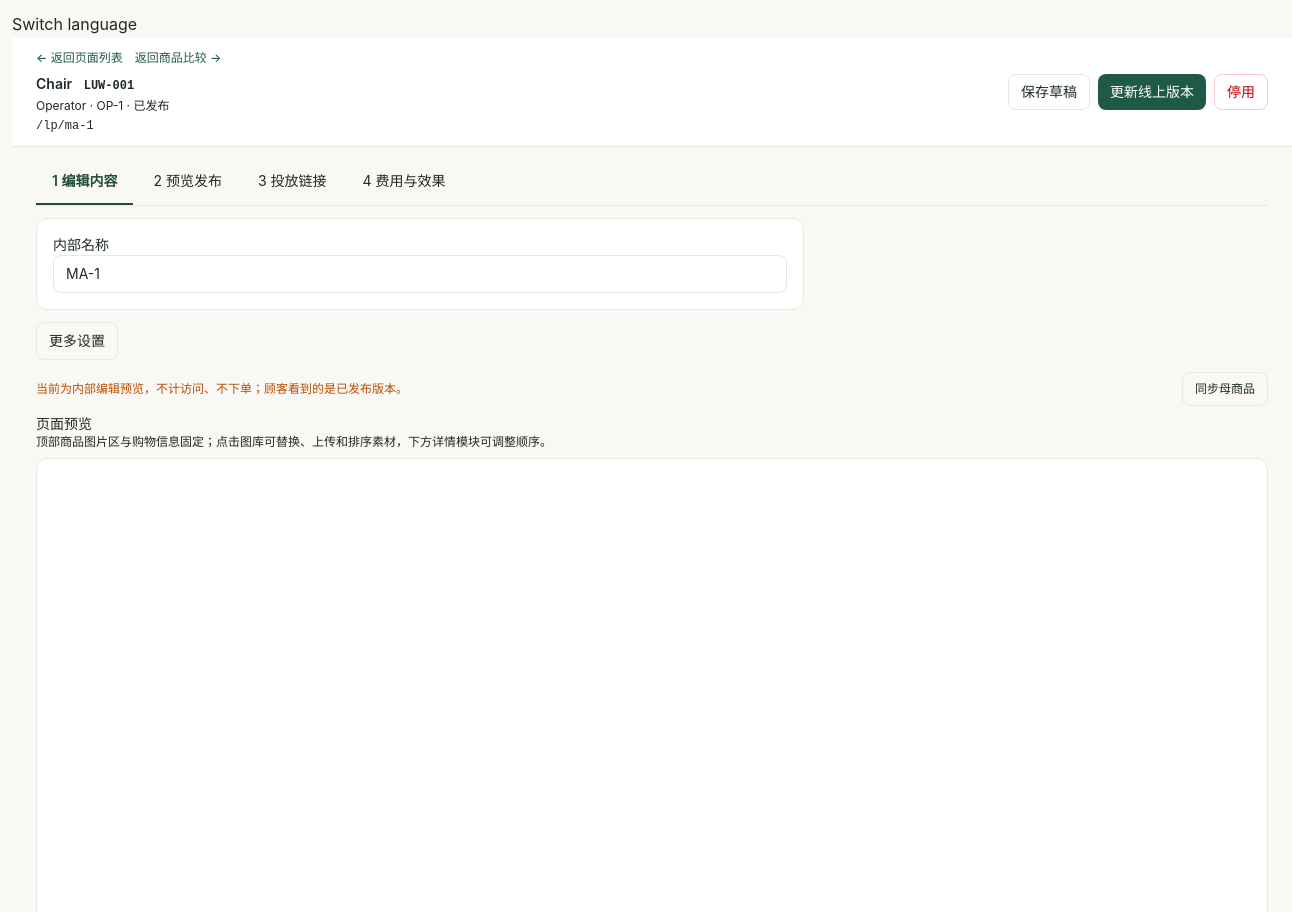
Test case: marketing page editing › blocks publication of local edits until the draft is saved
Expected: the text "LUW-001" is shown, [84,79,134,93]
Click the button "更多设置" at [77, 341], box [36,322,118,360]
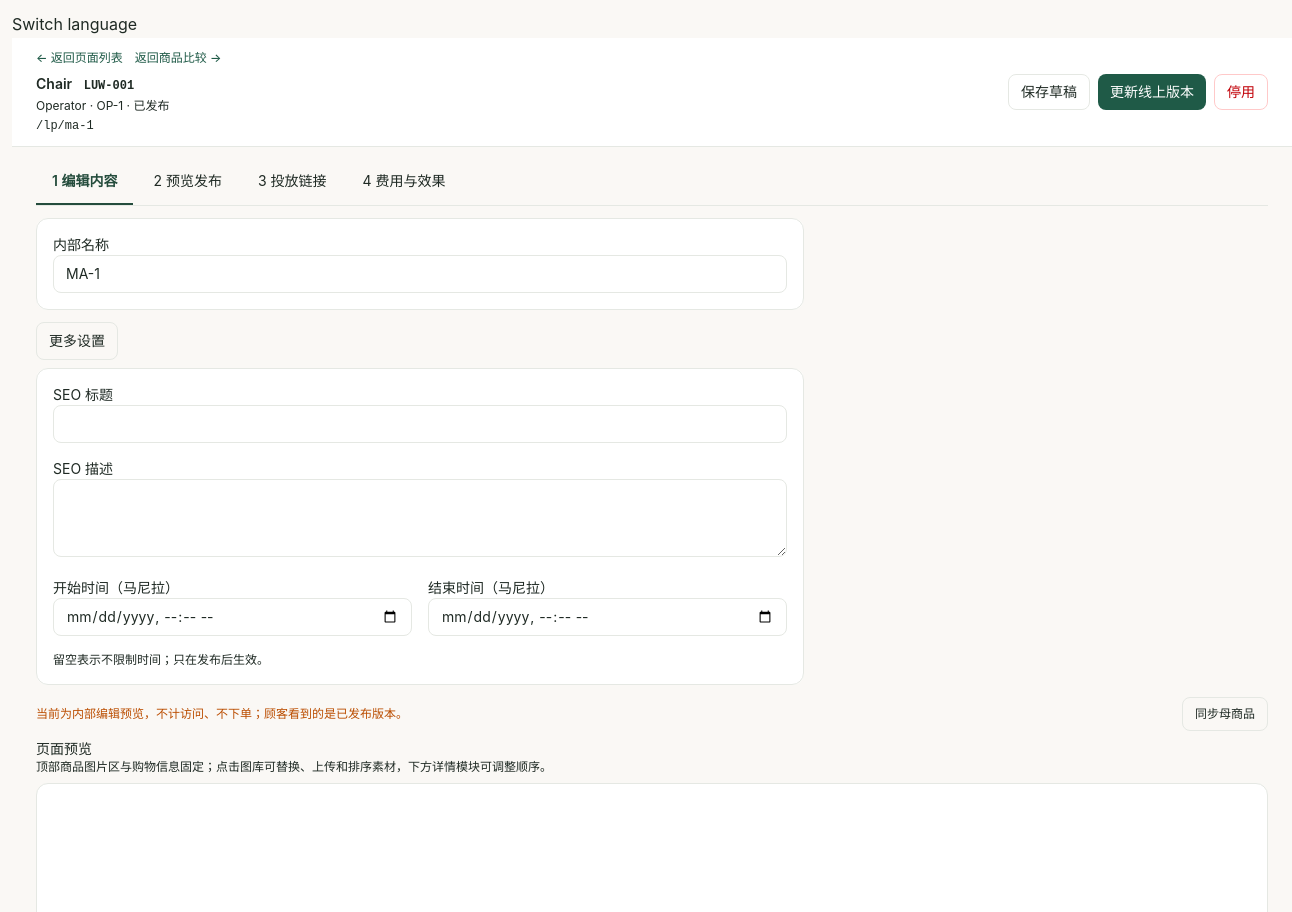
Replace the text in the field labelled "内部名称" with "Changed" at [420, 274], box [53,255,787,293]
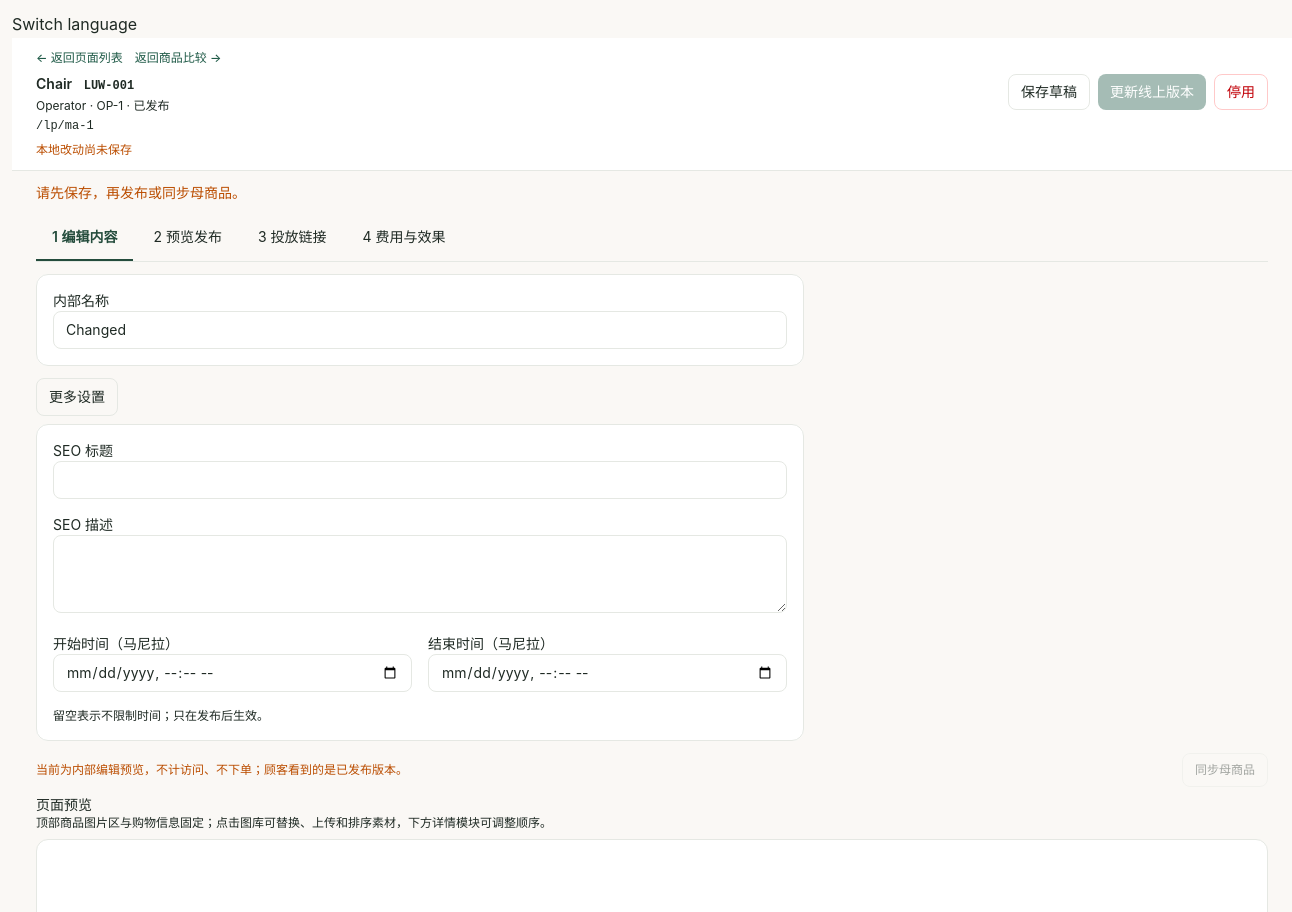
Expected: the button "更新线上版本" is disabled, [1098,74,1206,110]
Expected: the text "请先保存，再发布或同步母商品。" is shown, [36,184,246,201]
